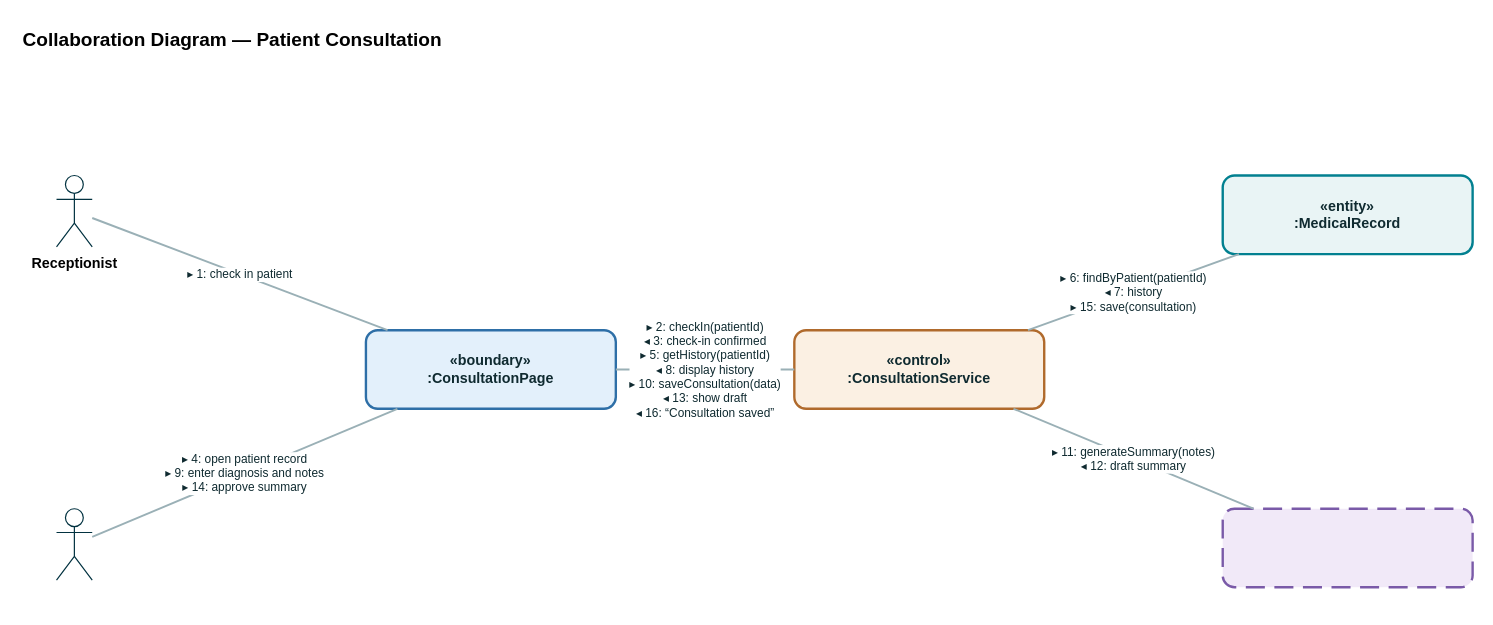
The diagram is 1493 pixels wide and 625 high, and some of its shapes have lost their labels. Here are the shapes that lost their labels. From the top down, the centre of each, then its label:
point (73, 544): Doctor
point (1347, 547): «external» :LLMService
